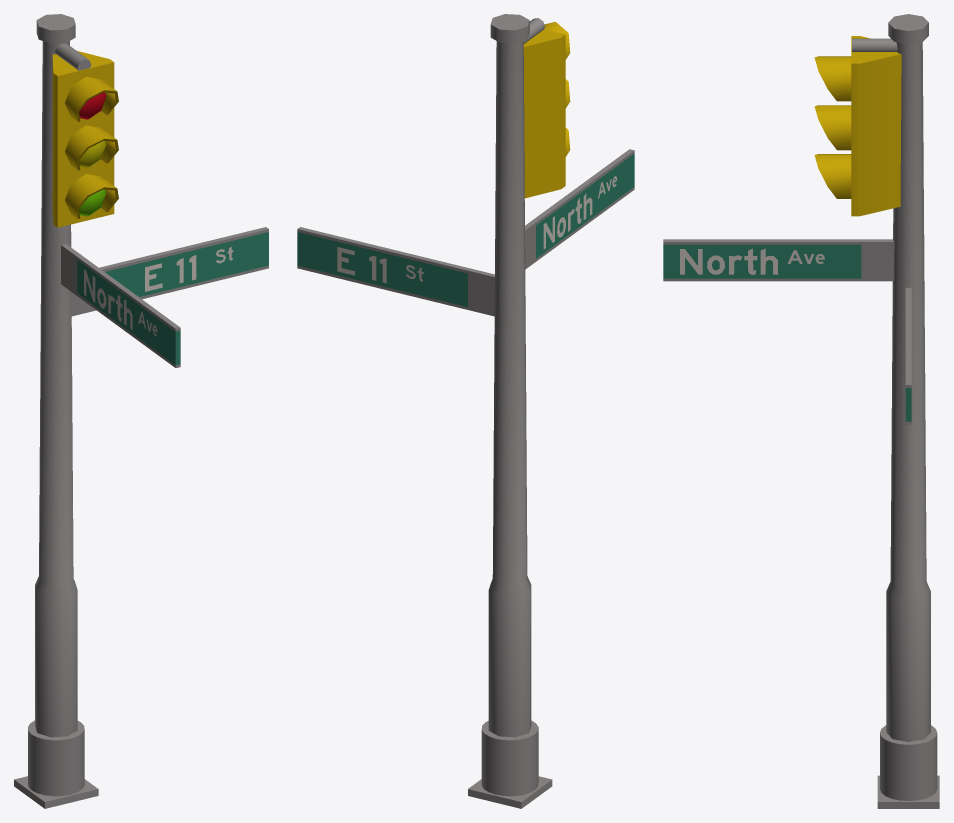
File: traffic-light.glb
The picture shows the model from 3 angles, left to right: view 1: azimuth 30°, elevation 25°; view 2: azimuth 150°, elevation 25°; view 3: azimuth 270°, elevation 25°; orthographic projection.
Visible parts, largest first — view 1: TrafficLight_1; view 2: TrafficLight_1; view 3: TrafficLight_1.
Boxes of the visible parts, left/top/right/bottom form: TrafficLight_1: left=14, top=14, right=268, bottom=808; TrafficLight_1: left=297, top=14, right=634, bottom=808; TrafficLight_1: left=663, top=14, right=939, bottom=808.
Size of the model in its own units: 1.51 by 4.66 by 1.51.
Materials: 1 (1 with a texture image).
